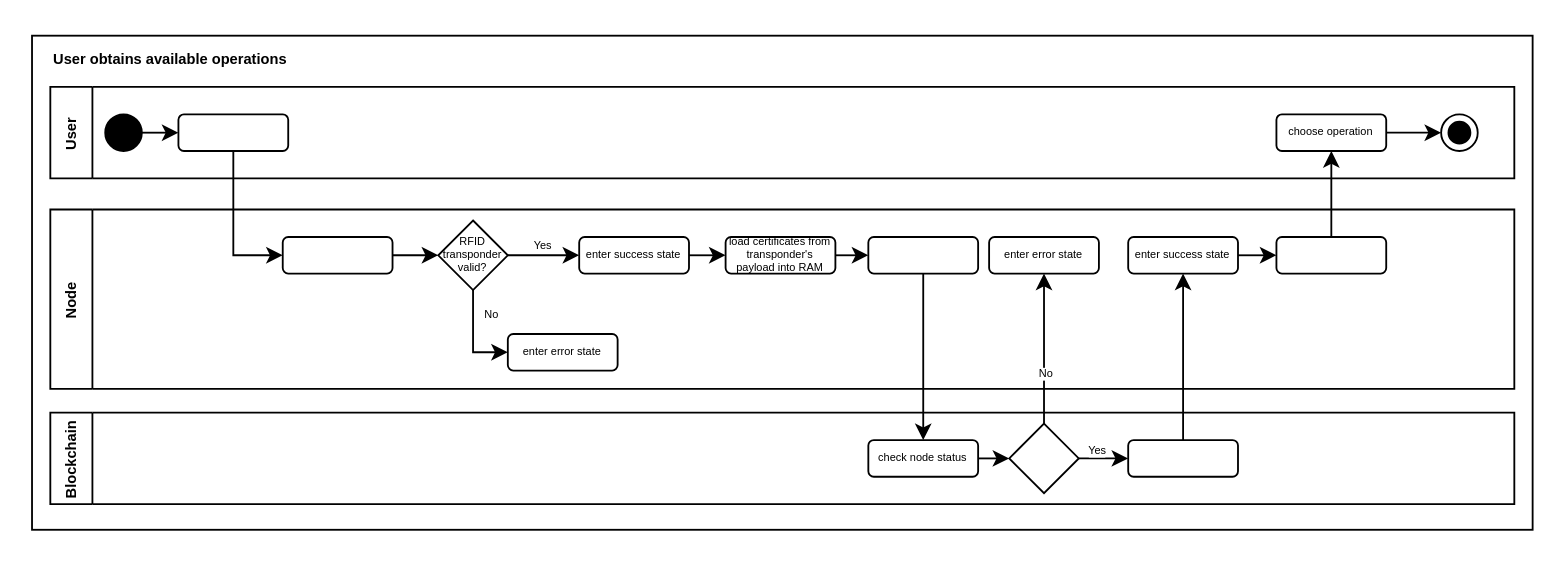
Image size: 1565x562. Some labels were removed from this diagram. The box of each missing label's shape, as (x1, y1, x2, y2) in pixels:
check user-specific identity of the RFID transponder: (281, 235, 393, 274)
display available operations: (1275, 235, 1386, 274)
insert RFID transponder: (177, 113, 288, 151)
node valid?: (1007, 422, 1079, 493)
request available operations for transponder id: (867, 235, 978, 274)
return available operations for transponder id: (1126, 438, 1238, 477)
